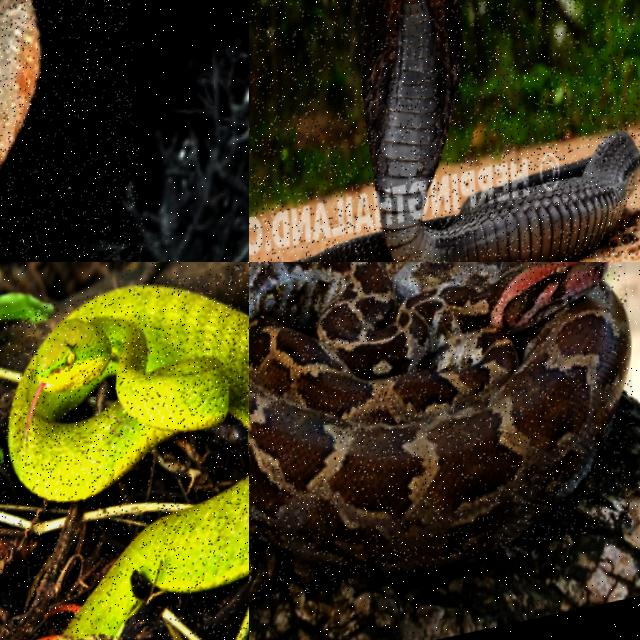Naja kaouthia: (0, 0, 40, 166)
Naja siamensis: (298, 0, 639, 261)
Python bivittatus: (249, 262, 629, 573)
Trimeresurus: (7, 286, 248, 502)
